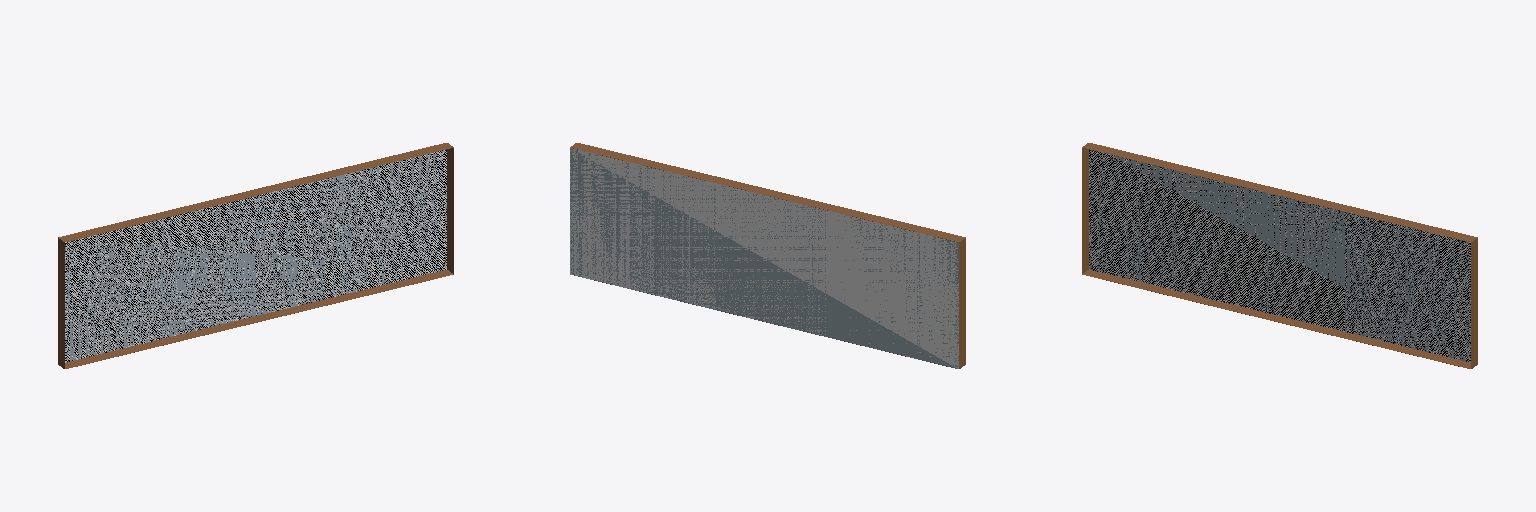
3 renders of one model, left to right at view 1: azimuth 30°, elevation 25°; view 2: azimuth 150°, elevation 25°; view 3: azimuth 330°, elevation 25°, orthographic.
Parts seen in each view (by area): view 1: Mesh1 groundplane1 Model, Mesh3 wall1 Model; view 2: Mesh1 groundplane1 Model, Mesh3 wall1 Model; view 3: Mesh1 groundplane1 Model, Mesh3 wall1 Model.
Boxes of the visible parts, <box> form: Mesh1 groundplane1 Model: <box>65,150,446,362</box>; Mesh3 wall1 Model: <box>58,143,453,368</box>; Mesh1 groundplane1 Model: <box>570,148,958,368</box>; Mesh3 wall1 Model: <box>570,143,965,368</box>; Mesh1 groundplane1 Model: <box>1089,150,1470,362</box>; Mesh3 wall1 Model: <box>1082,143,1477,368</box>.
Size of the model in its own units: 321 by 100 by 10.
Materials: 4 (1 with a texture image).